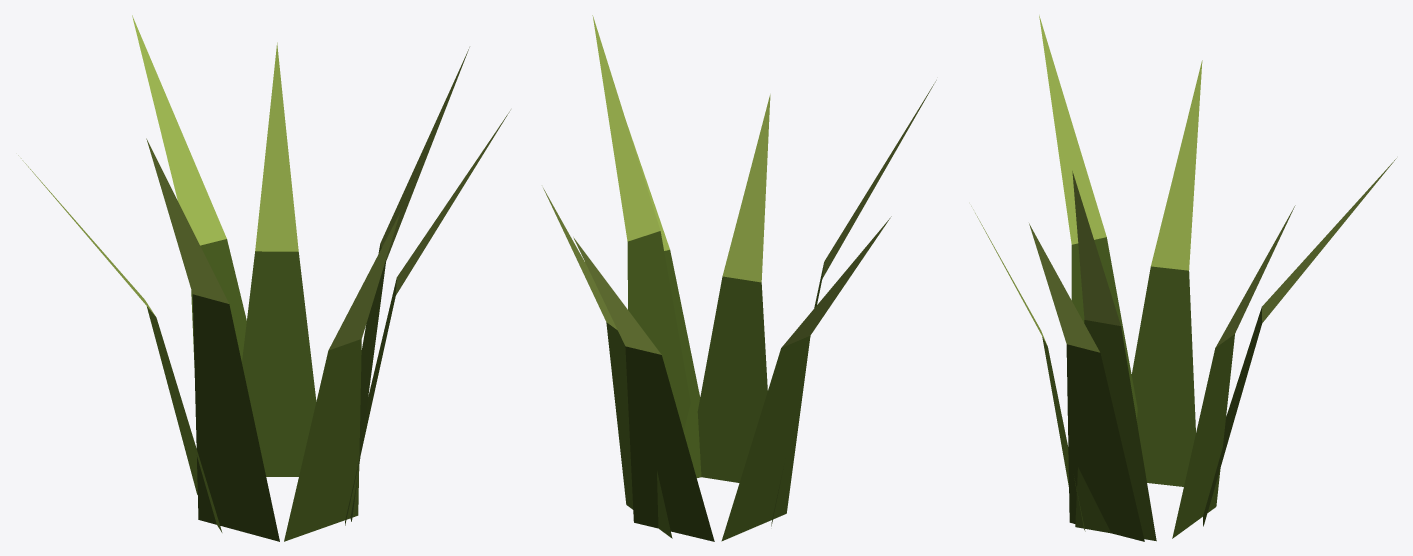
The model's file is grass_tuft.fbx.
The picture shows the model from 3 angles, left to right: view 1: azimuth 30°, elevation 25°; view 2: azimuth 150°, elevation 25°; view 3: azimuth 270°, elevation 25°; orthographic projection. The views are drawn at different scales.
Visible parts, largest first — view 1: grass_tuft; view 2: grass_tuft; view 3: grass_tuft.
Part boxes in pixels (bbox=[...]): grass_tuft: bbox=[18, 15, 510, 541]; grass_tuft: bbox=[543, 15, 936, 541]; grass_tuft: bbox=[971, 15, 1396, 541].
Bounding box in the file's own units: 0.3353 × 0.3625 × 0.343.
